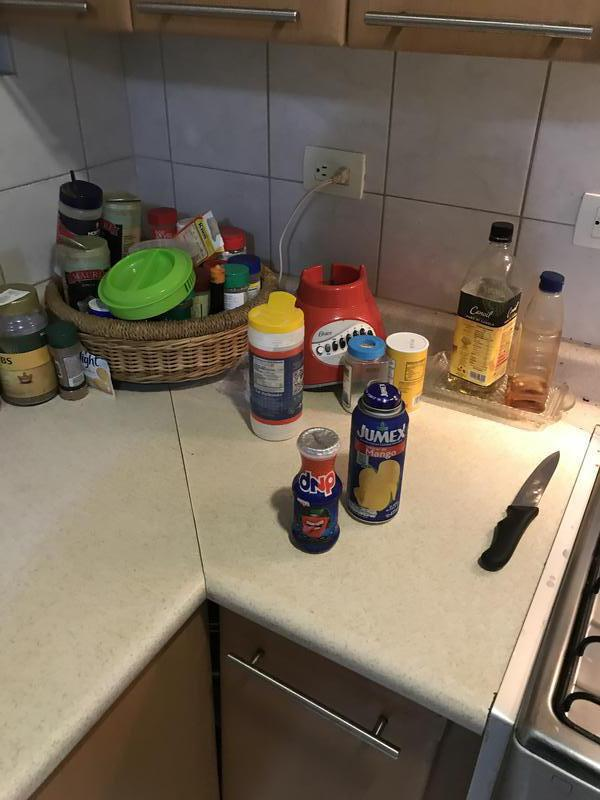danup: (292, 432, 344, 553)
jugo_jumex: (350, 383, 405, 524)
